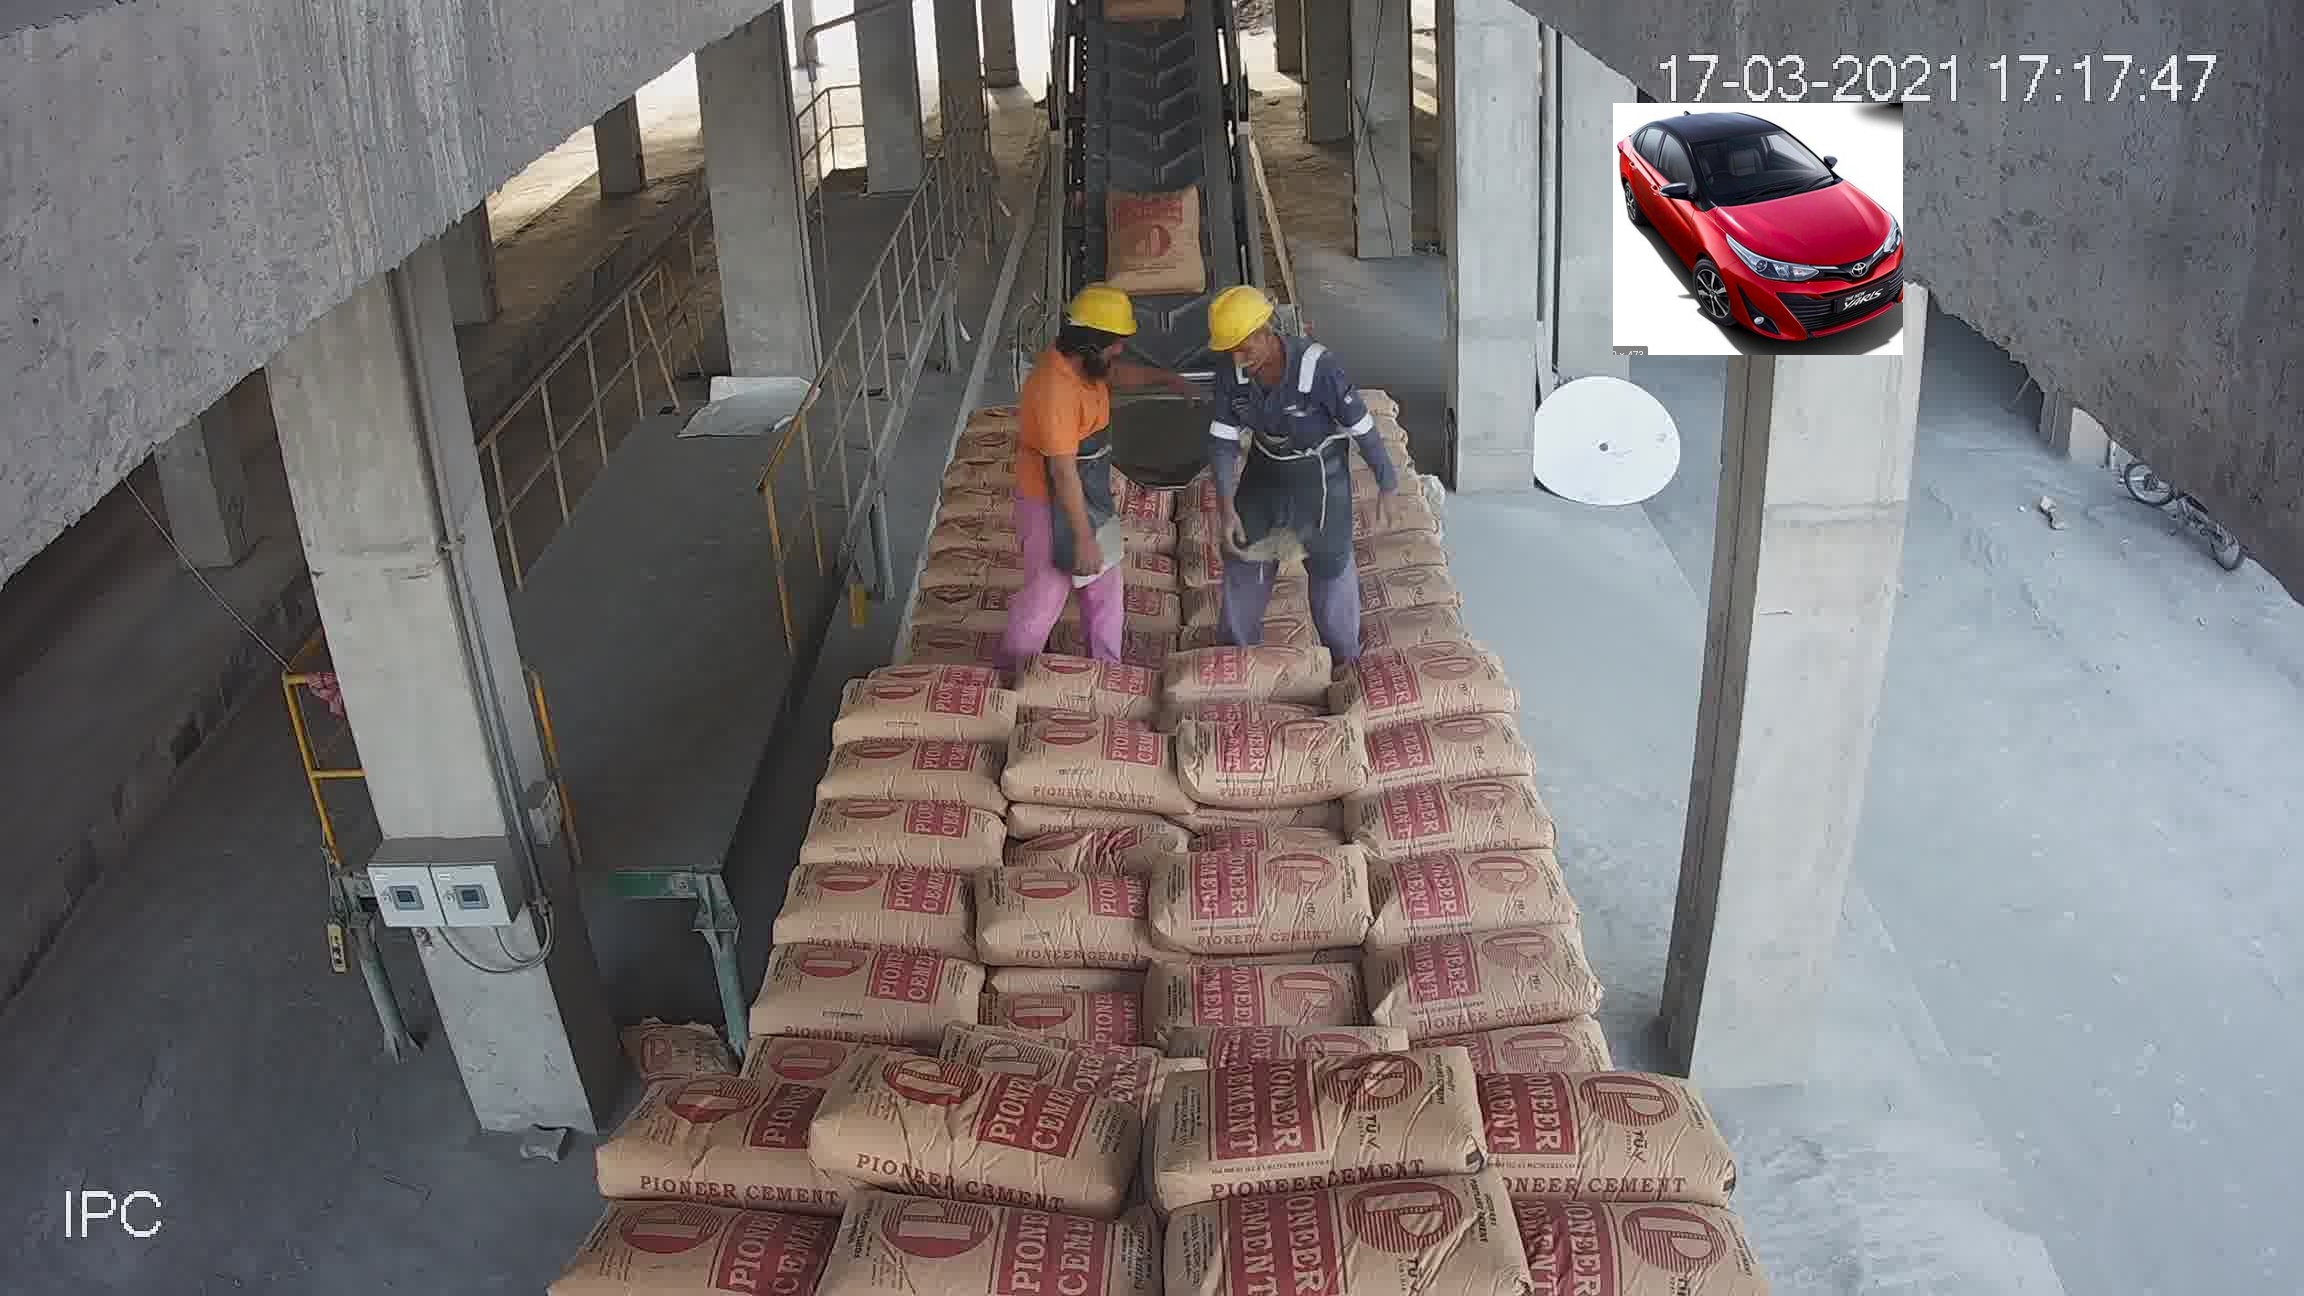bag: (1108, 191, 1204, 301)
bag_h: (794, 1055, 1120, 1207), (1199, 1044, 1518, 1198), (1168, 1168, 1532, 1287), (828, 1188, 1173, 1294), (1454, 1074, 1712, 1203), (593, 1086, 831, 1223), (1489, 1176, 1745, 1290), (574, 1195, 870, 1287), (1367, 921, 1597, 1033), (752, 946, 991, 1044), (775, 851, 980, 956), (1343, 769, 1556, 864), (1158, 862, 1377, 954), (1367, 848, 1575, 943), (965, 872, 1158, 967), (1150, 961, 1367, 1044), (1184, 715, 1378, 802), (794, 794, 1021, 869), (1000, 722, 1182, 809), (968, 1030, 1176, 1105), (817, 733, 1014, 809), (1002, 815, 1185, 889), (1355, 711, 1527, 788), (1331, 646, 1516, 715), (836, 677, 1016, 747), (987, 972, 1150, 1044), (1161, 641, 1336, 703), (1432, 1022, 1612, 1081), (1011, 650, 1173, 712), (1351, 597, 1478, 654), (1355, 559, 1464, 620), (888, 612, 994, 676), (904, 567, 1010, 628), (916, 521, 1010, 579), (926, 508, 1019, 557), (926, 475, 1019, 521)
belt: (1032, 28, 1274, 413)
